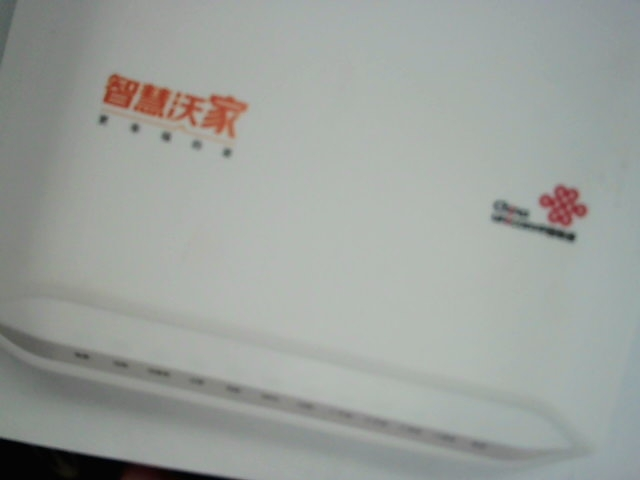AC_ChinaUnicom: (455, 162, 598, 254)
